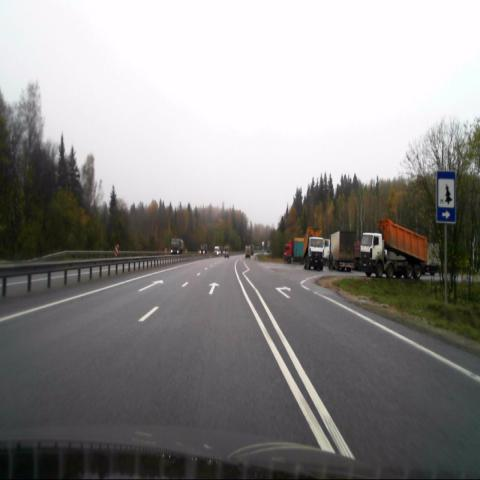7_11: (436, 169, 456, 224)
